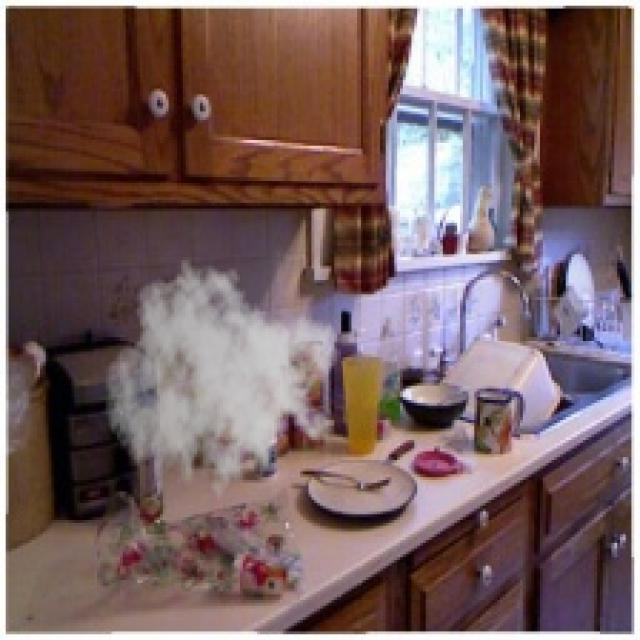smoke: (103, 257, 340, 514)
